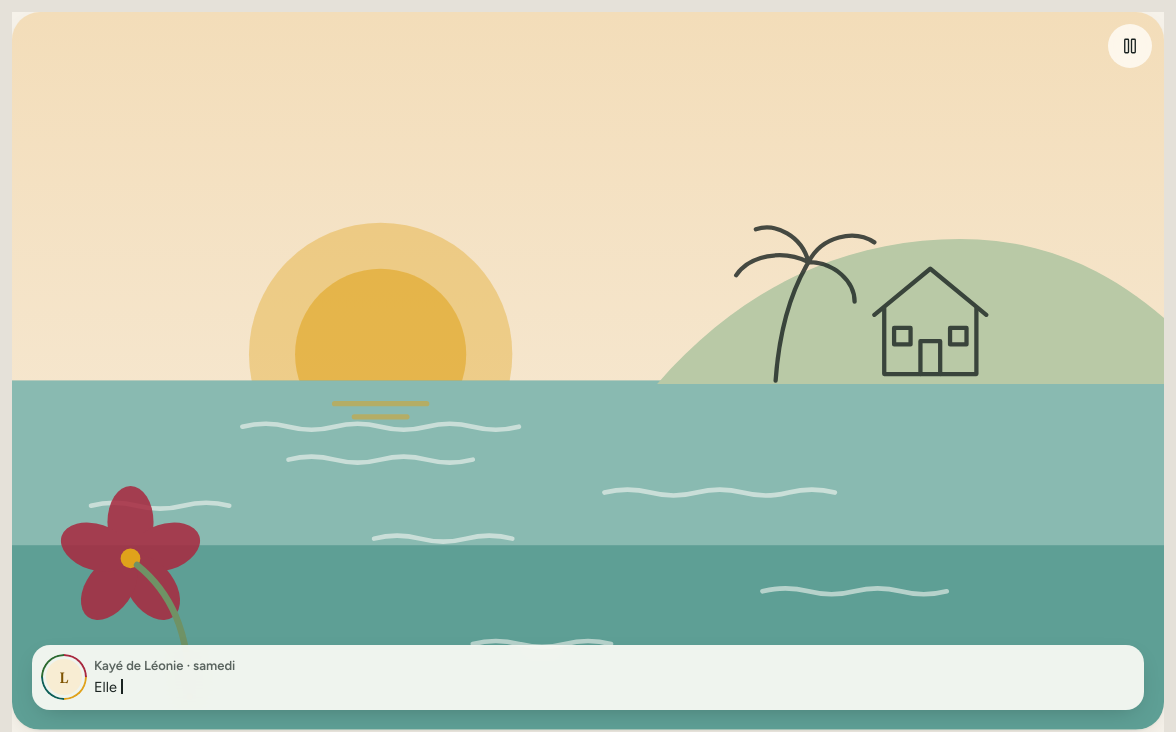
Test: HeroScene (accueil, motion) › animations permises : le texte s'écrit, puis le bouton pause fige la scène avec le texte complet
Click the button named "Mettre l'animation en pause" at (1130, 46), box x1=1108 y1=24 x2=1152 y2=68
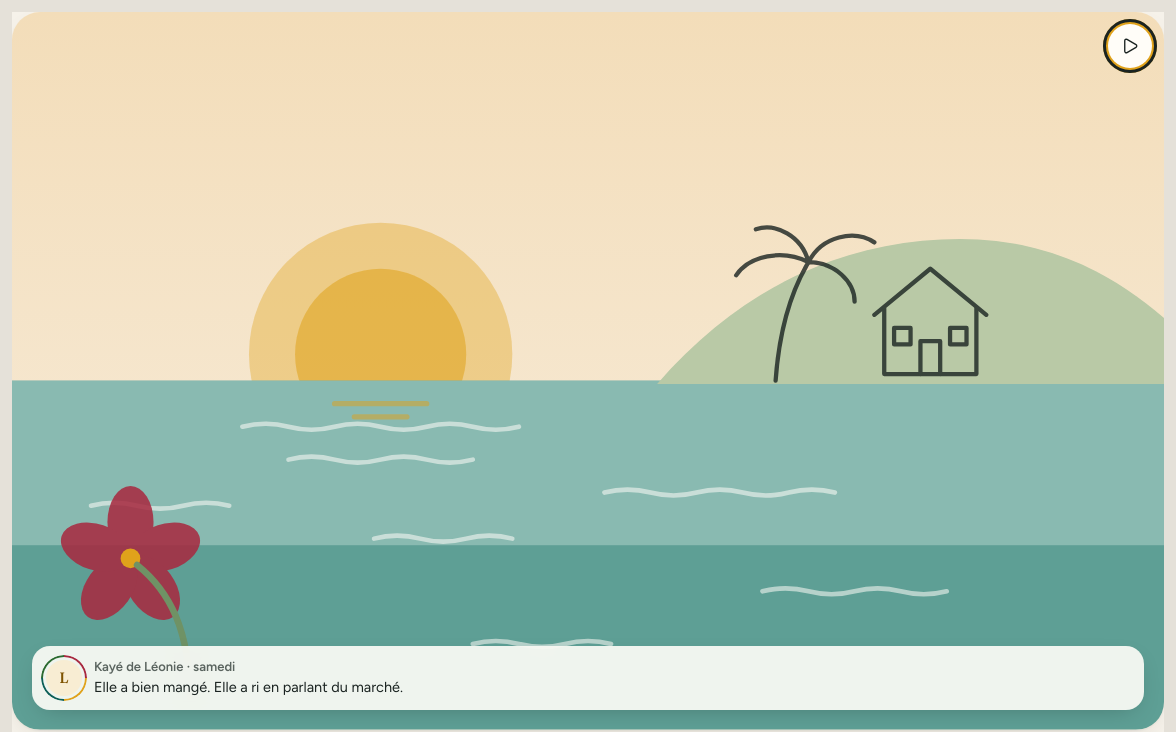
Now the button named "Mettre l'animation en pause" is pressed, box x1=1108 y1=24 x2=1152 y2=68
Now the element that starts with "Kayé de Léonie · samedi" has attribute data-play="false"
